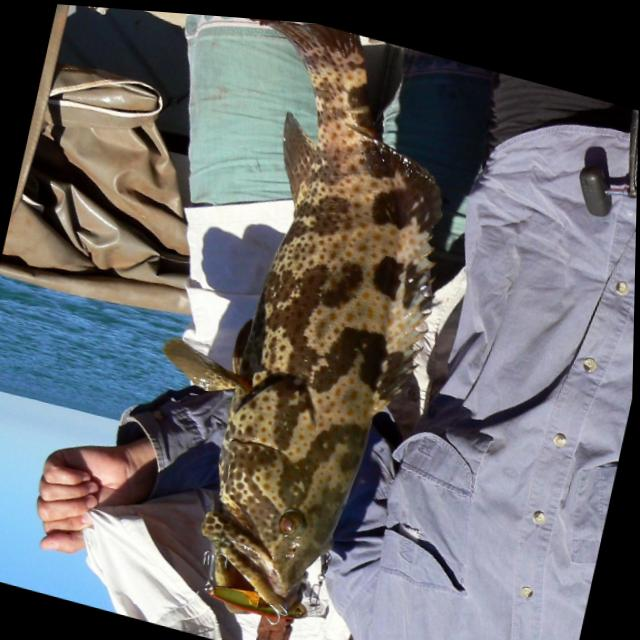Groupers: (113, 9, 485, 640)
